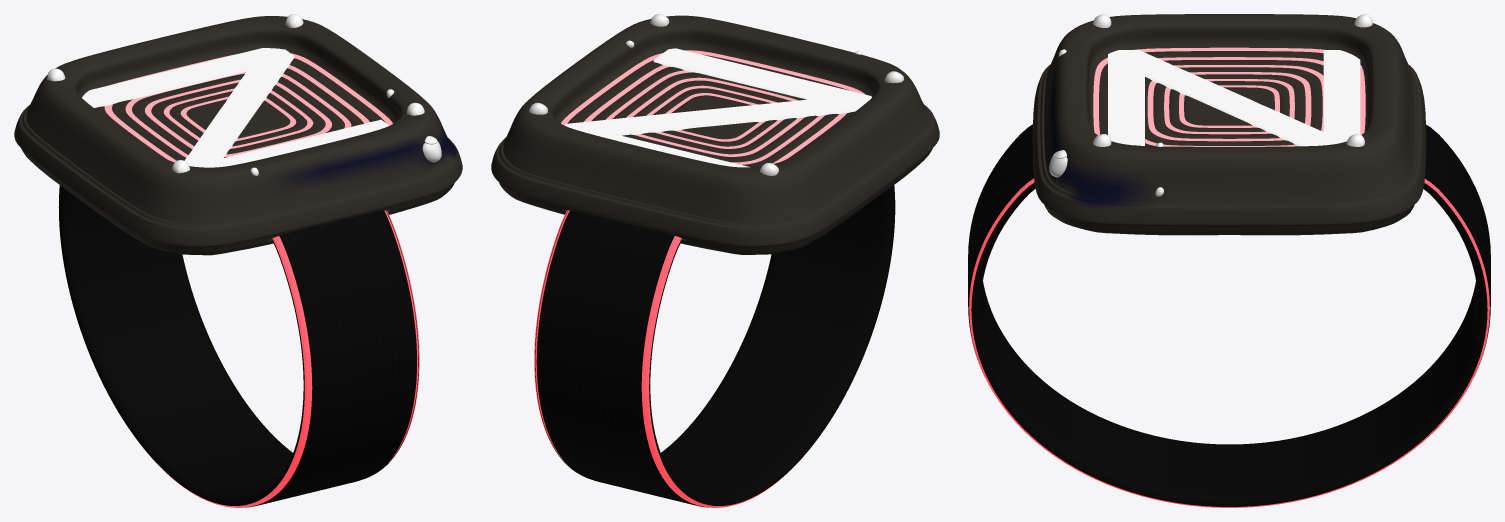
Rendered from brace_let.glb.
The picture shows the model from 3 angles, left to right: view 1: azimuth 30°, elevation 25°; view 2: azimuth 150°, elevation 25°; view 3: azimuth 270°, elevation 25°; orthographic projection. The views are drawn at different scales.
Parts seen in each view (by area): view 1: Circle_0, Brace_3, Plane.001_2, CircleDet_1; view 2: Circle_0, Brace_3, Plane.001_2, CircleDet_1; view 3: Brace_3, Circle_0, Plane.001_2, CircleDet_1.
Boxes of the visible parts, x1=… form: Circle_0: x1=58, y1=185, x2=419, y2=507; Brace_3: x1=14, y1=16, x2=462, y2=255; Plane.001_2: x1=82, y1=48, x2=389, y2=167; CircleDet_1: x1=47, y1=14, x2=441, y2=175; Circle_0: x1=534, y1=185, x2=895, y2=507; Brace_3: x1=491, y1=15, x2=939, y2=254; Plane.001_2: x1=564, y1=48, x2=871, y2=167; CircleDet_1: x1=529, y1=14, x2=903, y2=175; Brace_3: x1=1032, y1=14, x2=1426, y2=235; Circle_0: x1=968, y1=124, x2=1490, y2=507; Plane.001_2: x1=1108, y1=50, x2=1360, y2=146; CircleDet_1: x1=1049, y1=14, x2=1372, y2=196.
Size of the model in its own units: 0.2163 by 0.2456 by 0.2874.
